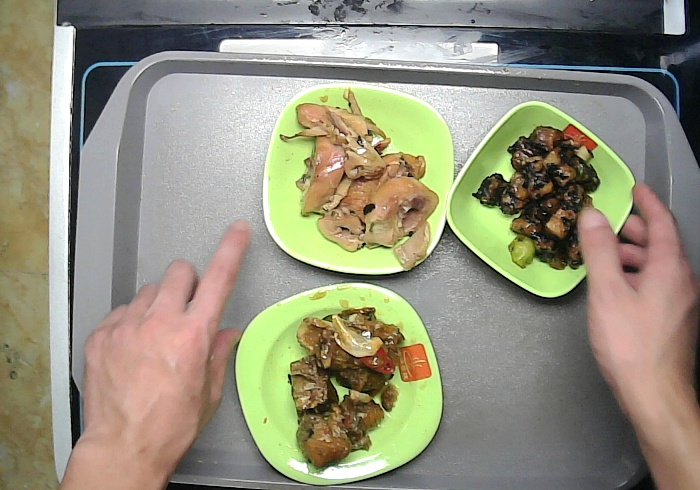SHKJ-Lv_Se_Cai_Die: (262, 84, 453, 276)
SHKJ-Lv_Se_Si_Fang_Cai_Die: (234, 283, 444, 486)
SHKJ-Lv_Se_Xiao_Fang_Die: (445, 101, 635, 297)
